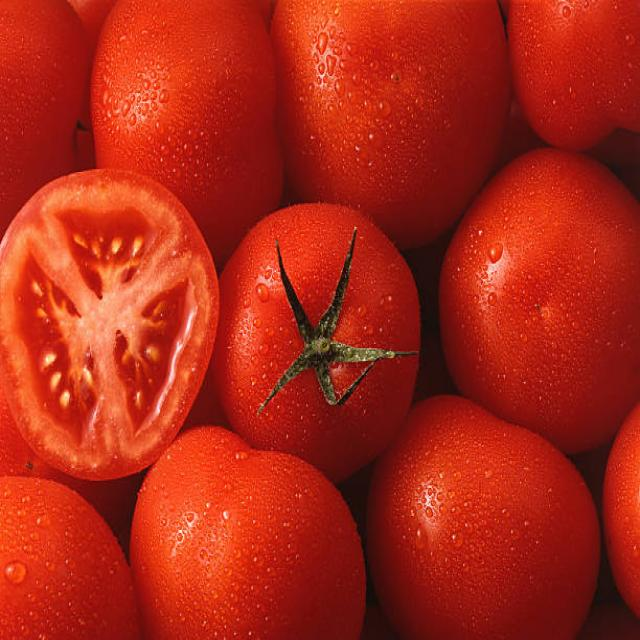Tomato: (9, 178, 222, 461)
